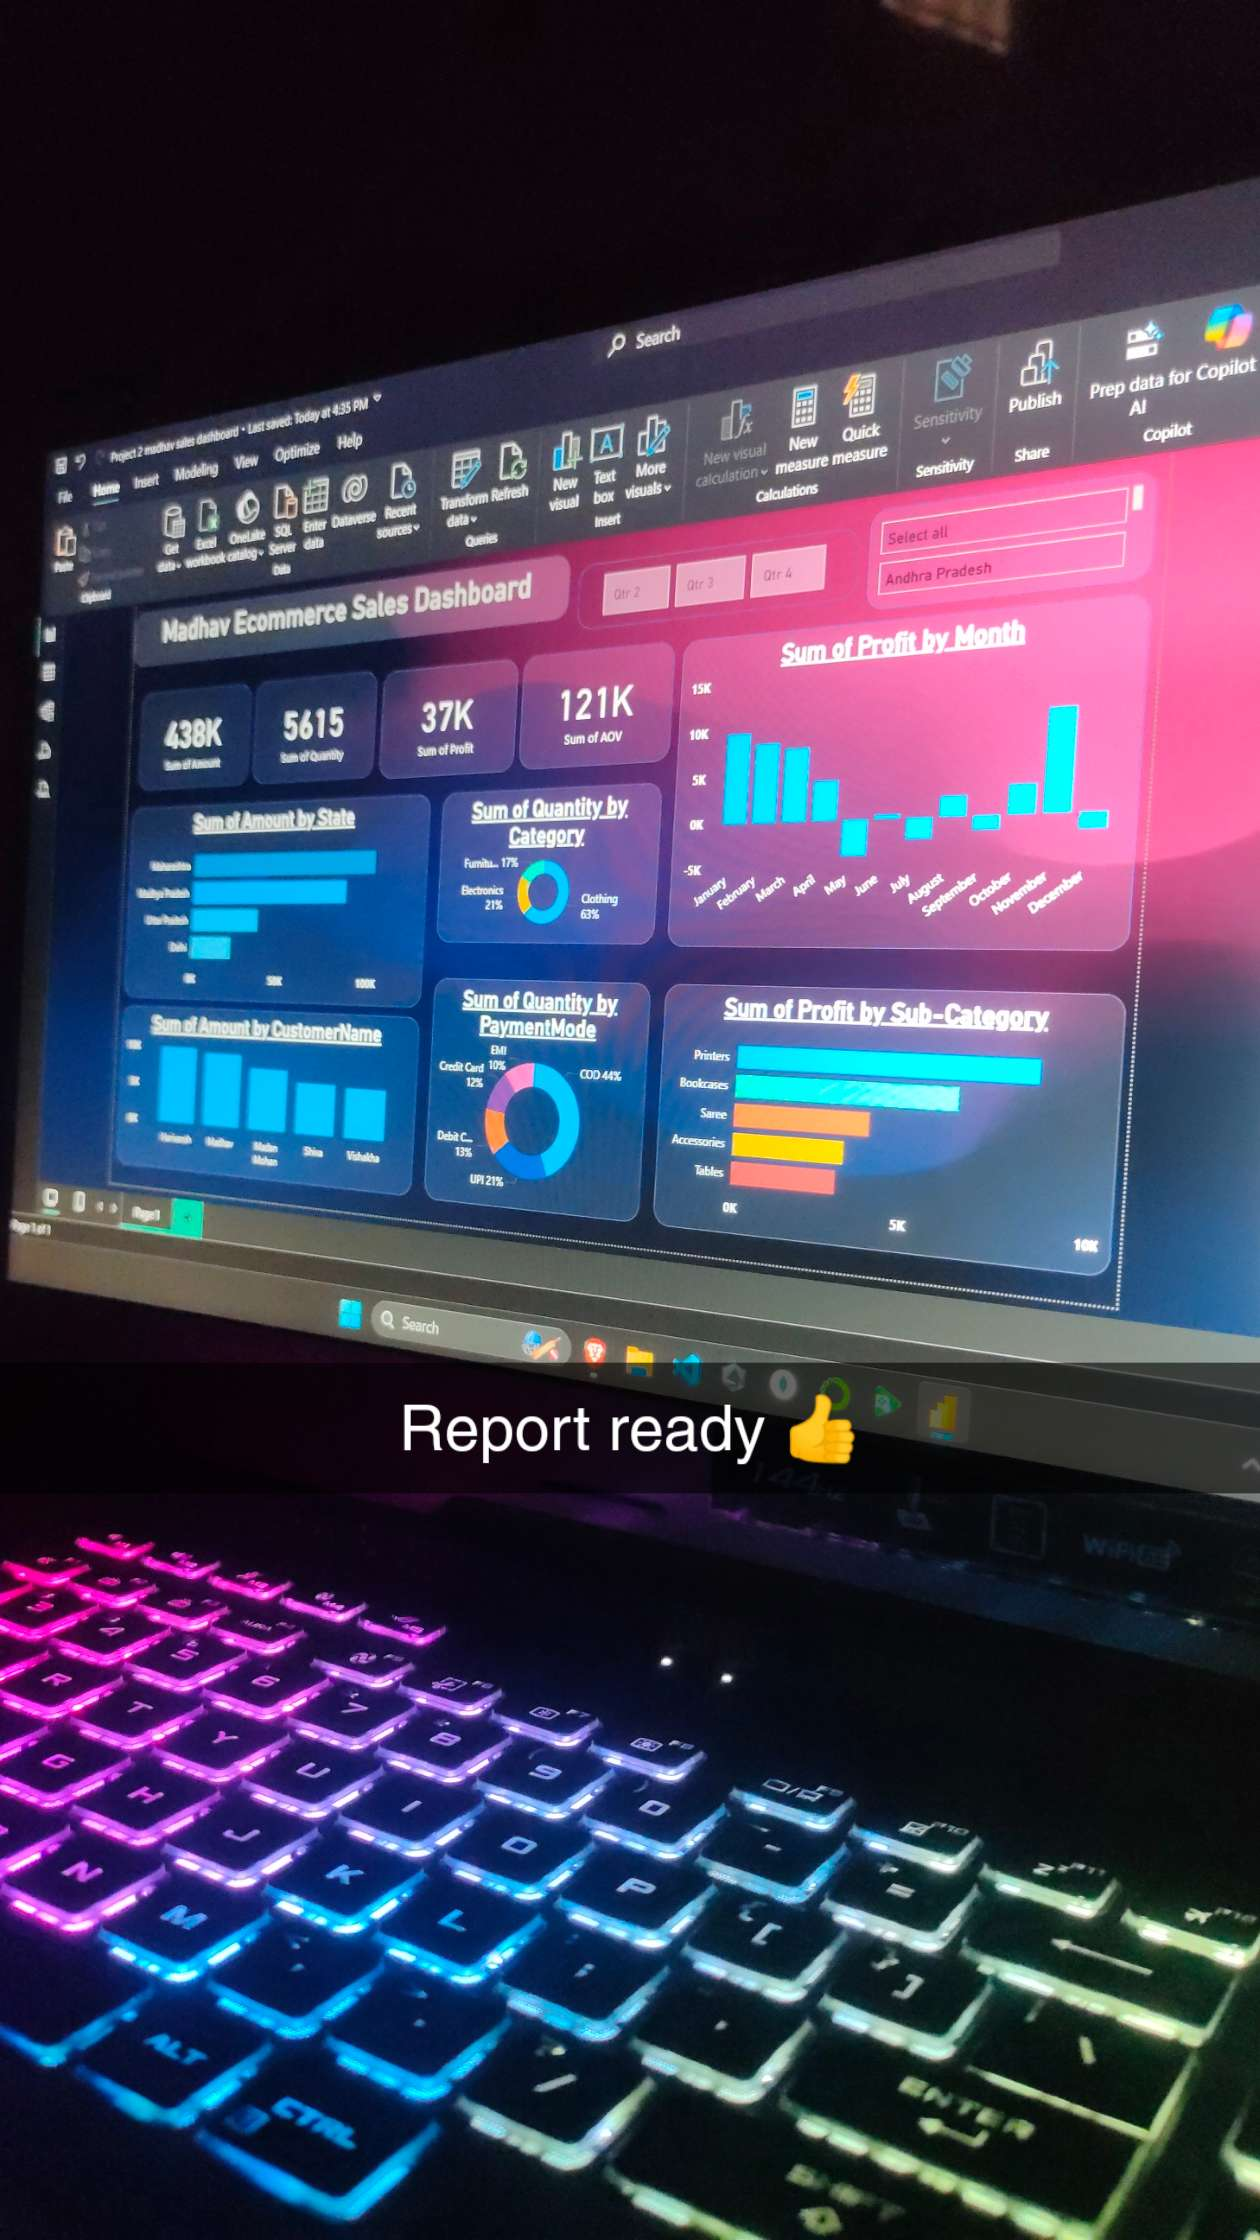

Layout of this report page (visuals, bound fields, positions):
{"tool":"powerbi","page":{"name":"Page 1","canvas":[1280,720],"ordinal":0},"visuals":[{"type":"textbox","title":"Madhav Ecommerce Sales Dashboard","box":[0,12.3,661.4,65.9],"z":0},{"type":"columnChart","fields":{"Y":["madhav store.Profit"],"Category":["Orders.Order Date.Variation.Date Hierarchy.Month"]},"box":[805.5,113.9,465.2,301.9],"z":1000},{"type":"barChart","fields":{"Category":["madhav store.Sub-Category"],"Y":["madhav store.Profit"]},"box":[806.9,452.8,465.2,241.5],"z":2000},{"type":"donutChart","fields":{"Y":["madhav store.Quantity"],"Category":["madhav store.Category"]},"box":[507.5,252.5,282.4,161.7],"z":3000},{"type":"donutChart","fields":{"Y":["madhav store.Quantity"],"Category":["madhav store.PaymentMode"]},"box":[508.8,452.8,281.1,241.3],"z":4000},{"type":"card","fields":{"Values":["madhav store.Amount"]},"box":[18.7,112,187.8,118.2],"z":5000},{"type":"card","fields":{"Values":["madhav store.Quantity"]},"box":[215.2,112,187.8,118.2],"z":6000},{"type":"card","fields":{"Values":["madhav store.Profit"]},"box":[413,114.4,187.8,118.2],"z":7000},{"type":"card","fields":{"Values":["madhav store.AOV"]},"box":[608.3,113.2,187.8,118.2],"z":8000},{"type":"barChart","fields":{"Category":["Orders.State"],"Y":["madhav store.Amount"]},"box":[10,252.5,480.2,233.9],"z":9000},{"type":"columnChart","fields":{"Category":["Orders.CustomerName"],"Y":["madhav store.Amount"]},"box":[9.6,496.7,480.3,197.6],"z":10000},{"type":"advancedSlicerVisual","fields":{"Values":["Orders.Order Date.Variation.Date Hierarchy.Quarter"]},"box":[673.8,26.1,318.4,65.9],"z":11000},{"type":"advancedSlicerVisual","fields":{"Values":["Orders.State"]},"box":[1004.5,12.3,266.2,91.9],"z":12000}]}

Visuals, with their boxes on the page's 1280x720 design canvas (x1, y1, x2, y2). These are canvas units, not pixel positions in the 1260x2240 screenshot, which may show the page scaled, cropped or inside an application window:
"Madhav Ecommerce Sales Dashboard" textbox: pyautogui.locateOnScreen(0, 12, 661, 78)
columnChart - madhav store.Profit x Orders.Order Date.Variation.Date Hierarchy.Month: pyautogui.locateOnScreen(806, 114, 1271, 416)
barChart - madhav store.Sub-Category x madhav store.Profit: pyautogui.locateOnScreen(807, 453, 1272, 694)
donutChart - madhav store.Quantity x madhav store.Category: pyautogui.locateOnScreen(508, 252, 790, 414)
donutChart - madhav store.Quantity x madhav store.PaymentMode: pyautogui.locateOnScreen(509, 453, 790, 694)
card - madhav store.Amount: pyautogui.locateOnScreen(19, 112, 206, 230)
card - madhav store.Quantity: pyautogui.locateOnScreen(215, 112, 403, 230)
card - madhav store.Profit: pyautogui.locateOnScreen(413, 114, 601, 233)
card - madhav store.AOV: pyautogui.locateOnScreen(608, 113, 796, 231)
barChart - Orders.State x madhav store.Amount: pyautogui.locateOnScreen(10, 252, 490, 486)
columnChart - Orders.CustomerName x madhav store.Amount: pyautogui.locateOnScreen(10, 497, 490, 694)
advancedSlicerVisual - Orders.Order Date.Variation.Date Hierarchy.Quarter: pyautogui.locateOnScreen(674, 26, 992, 92)
advancedSlicerVisual - Orders.State: pyautogui.locateOnScreen(1004, 12, 1271, 104)
